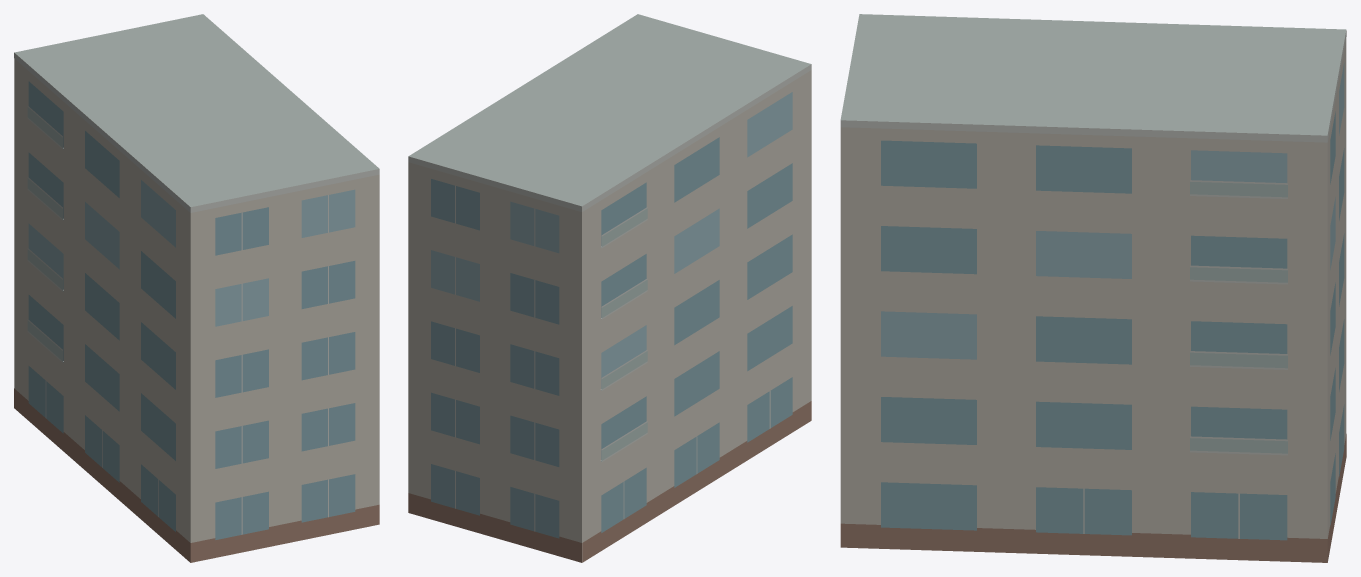
File: survey-upis-32769703.glb
3 views of the same model, side by side, from view 1: azimuth 30°, elevation 25°; view 2: azimuth 150°, elevation 25°; view 3: azimuth 270°, elevation 25° (orthographic). The views are drawn at different scales.
Parts seen in each view (by area): view 1: survey-upis-32769703.tmp; view 2: survey-upis-32769703.tmp; view 3: survey-upis-32769703.tmp.
Part boxes in pixels (x1,y1,x2,y2): survey-upis-32769703.tmp: [14, 14, 379, 562]; survey-upis-32769703.tmp: [408, 14, 811, 562]; survey-upis-32769703.tmp: [840, 14, 1346, 562].
Size of the model in its own units: 9.2 by 15.05 by 16.16.
